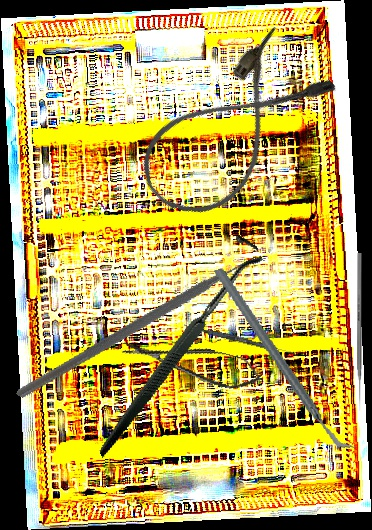Cannula: (125, 20, 342, 236)
Chopper: (15, 186, 278, 475), (212, 250, 356, 469)
Hook Surgical: (41, 229, 310, 458)
Micro Scissor: (119, 327, 265, 396)
Pusher: (357, 253, 362, 411)
Spatula Surgical: (182, 323, 300, 357)
